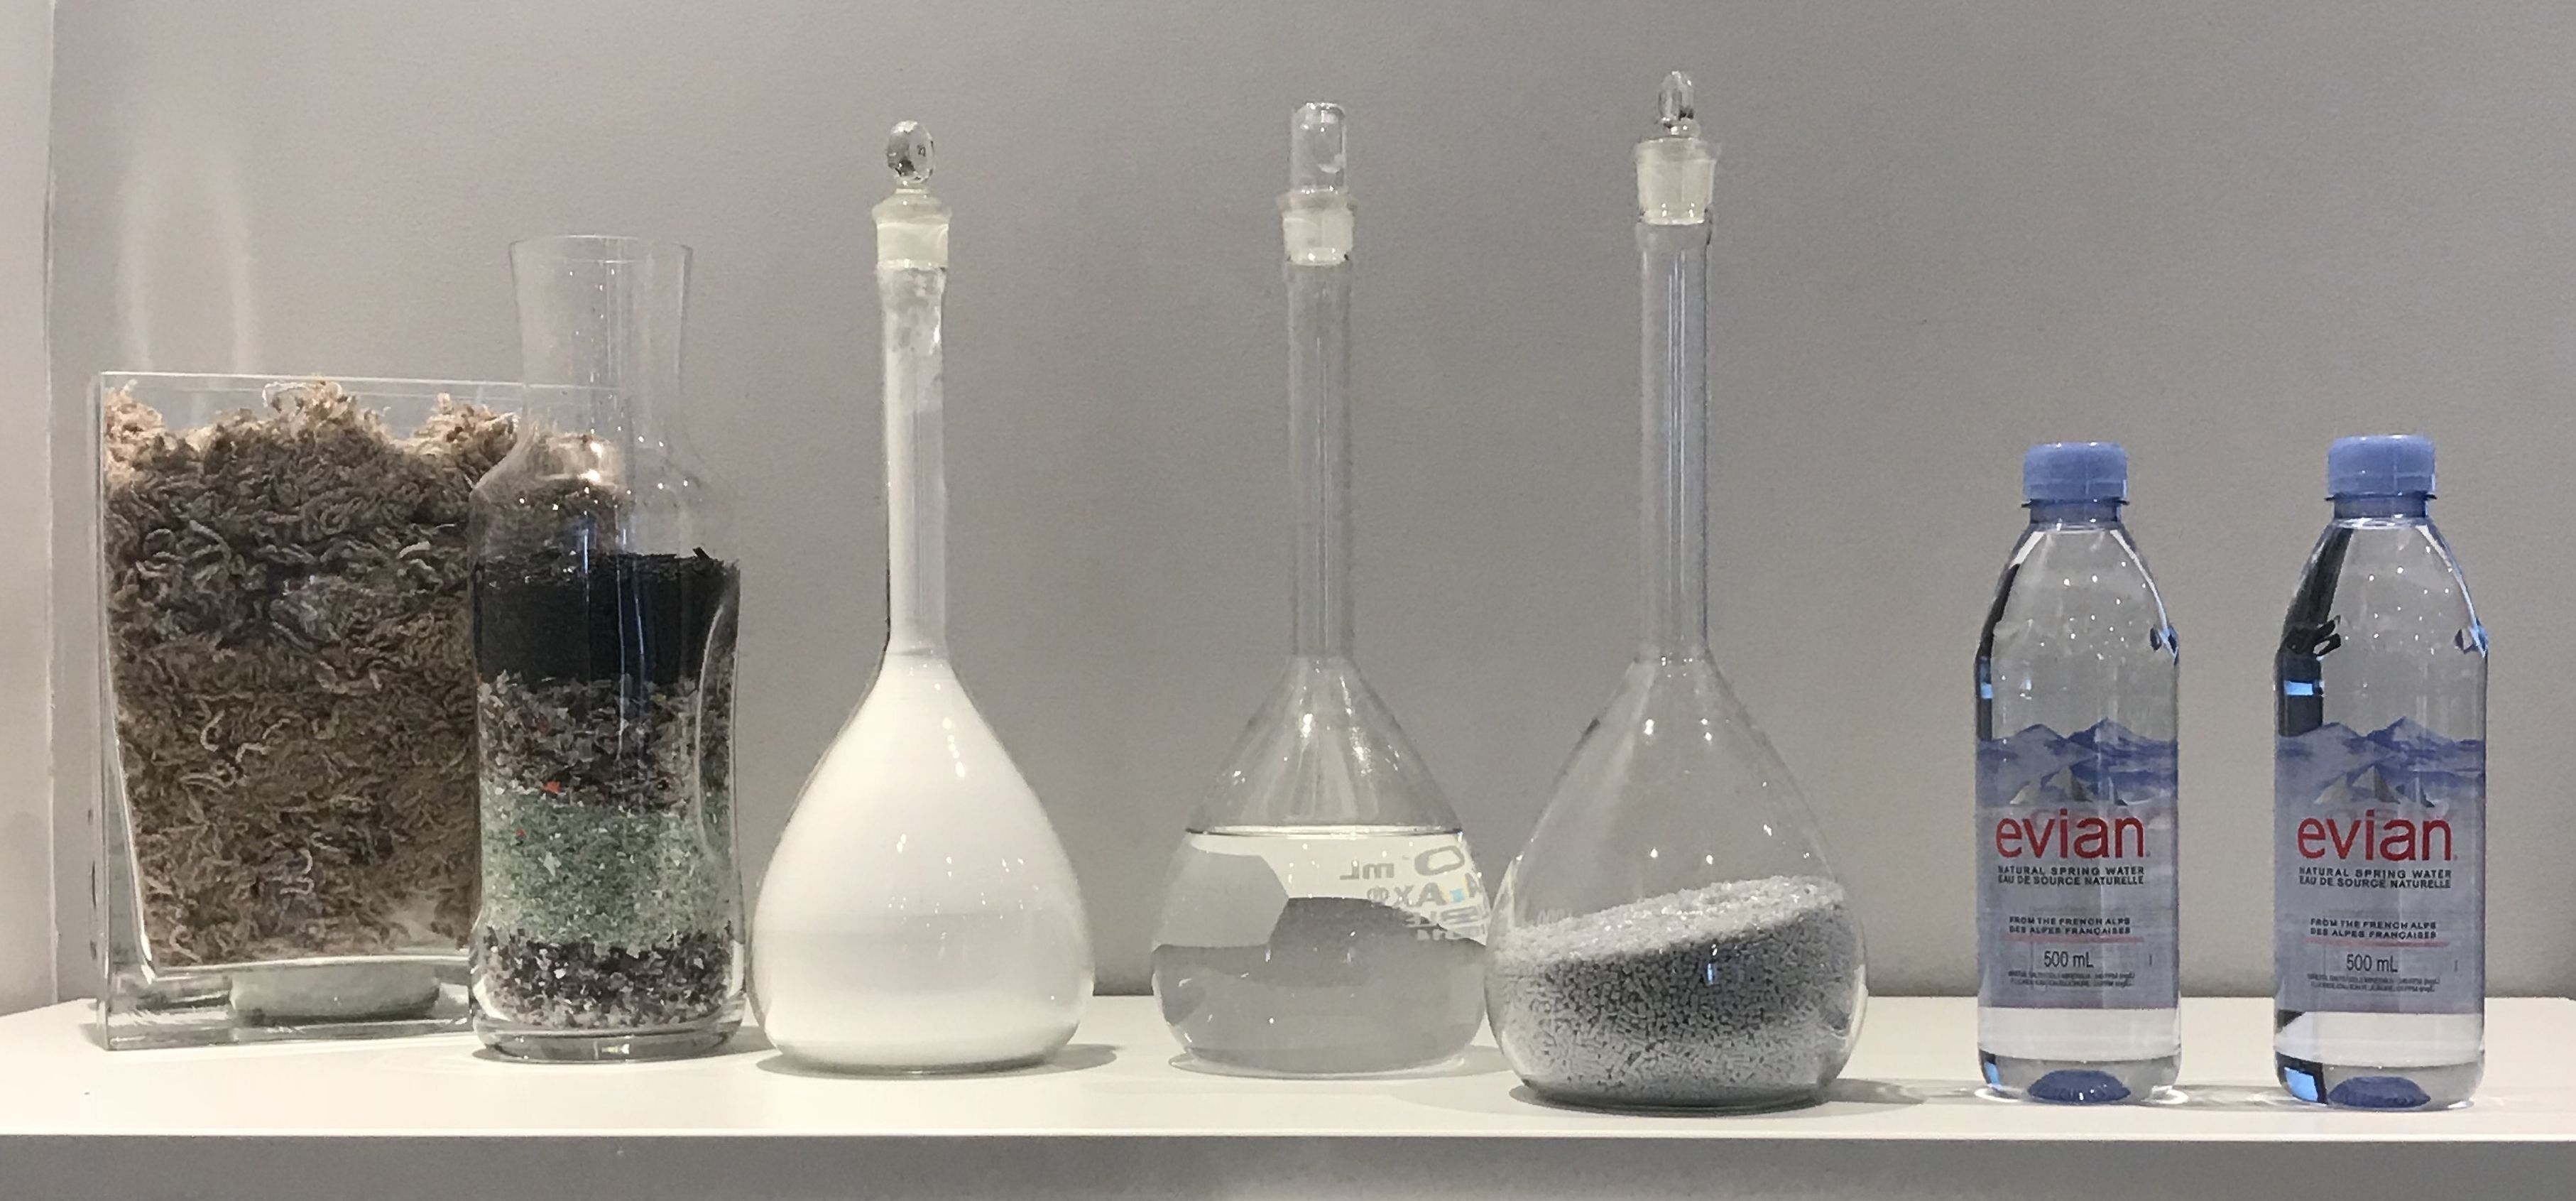plastic_bottle: (1896, 309, 2246, 1185), (2244, 237, 2537, 1193)
